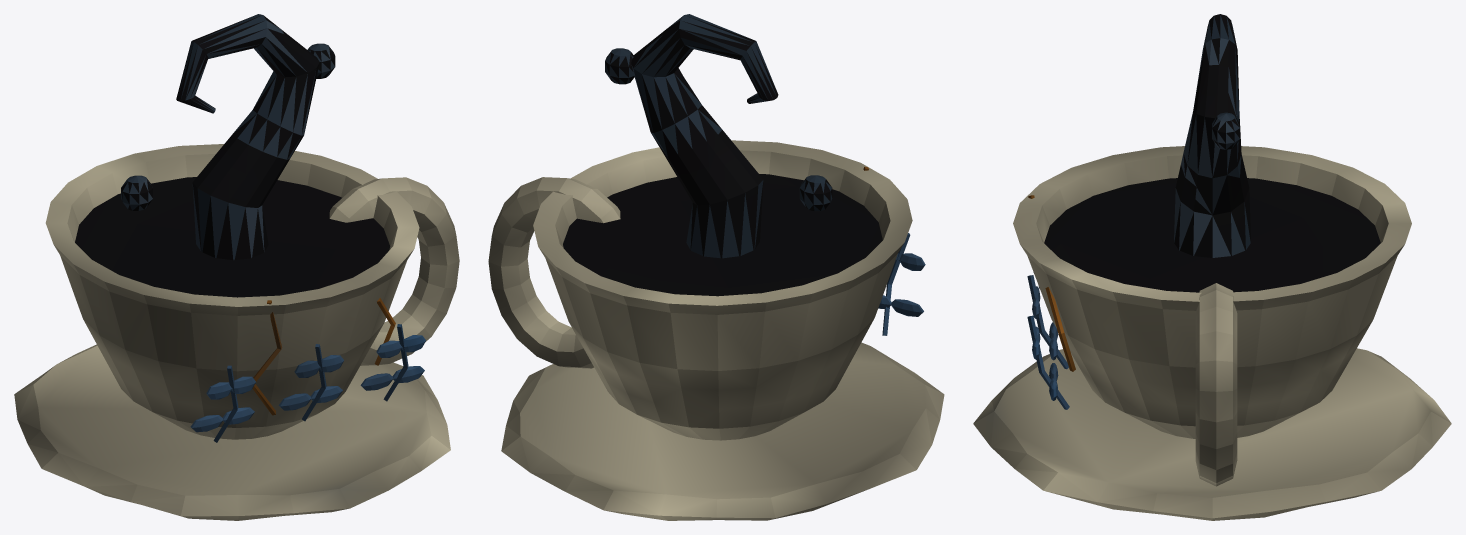
File: cold_teacup.fbx
3 renders of one model, left to right at view 1: azimuth 30°, elevation 25°; view 2: azimuth 150°, elevation 25°; view 3: azimuth 270°, elevation 25°, orthographic.
Visible parts, largest first — view 1: cold_teacup; view 2: cold_teacup; view 3: cold_teacup.
Boxes of the visible parts, bbox=[...] form: cold_teacup: bbox=[14, 14, 459, 520]; cold_teacup: bbox=[488, 14, 944, 520]; cold_teacup: bbox=[973, 14, 1451, 520].
Bounding box in the file's own units: 5 × 4.9 × 4.88.
